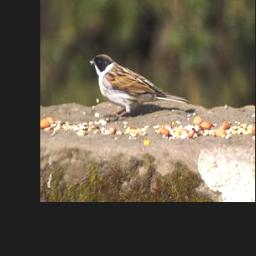Sparrow: (87, 52, 188, 120)
